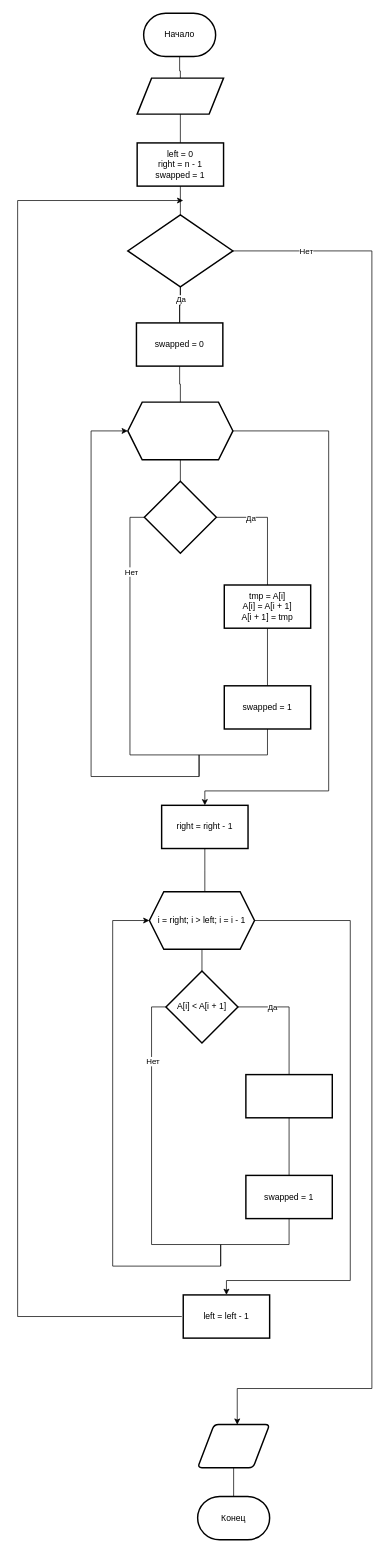
Image size: 390x1552. Some labels were removed from this diagram. The centre of each missing label's shape, as x and y in pixels:
"A[i] > A[i + 1]" goes at point (180, 517).
"i = left; i < right; i = i + 1" goes at point (180, 430).
"left < right and swapped" goes at point (180, 250).
"tmp = A[i] A[i] = A[i - 1] A[i - 1] = tmp" goes at point (289, 1096).
"Ввод: А[n]" goes at point (180, 95).
"Вывод: А" goes at point (233, 1445).
